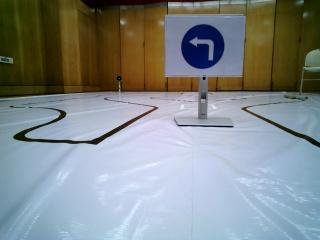left: (169, 16, 240, 74)
